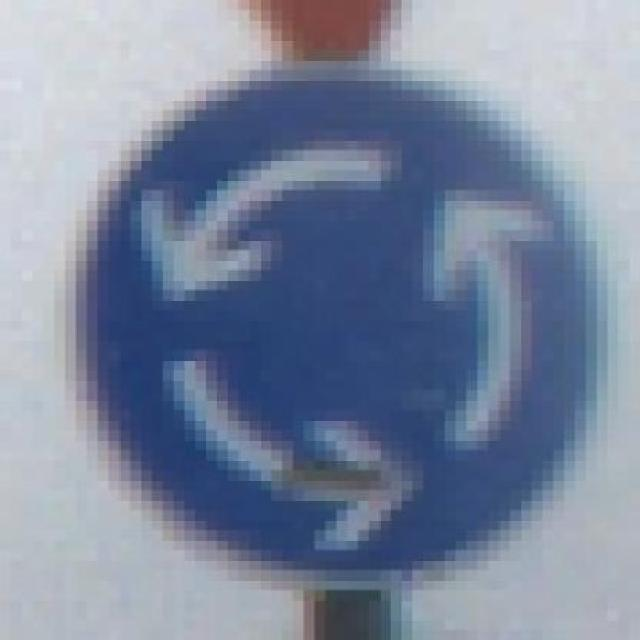Round-About: (32, 60, 630, 620)
